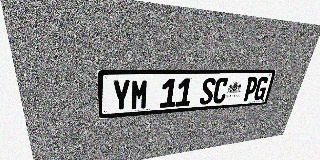1: (160, 78, 178, 108), (175, 78, 193, 107)
C: (212, 77, 229, 104)
G: (253, 77, 270, 101)
M: (131, 79, 149, 110)
P: (242, 77, 259, 101)
S: (199, 78, 216, 105)
Y: (112, 79, 131, 112)
